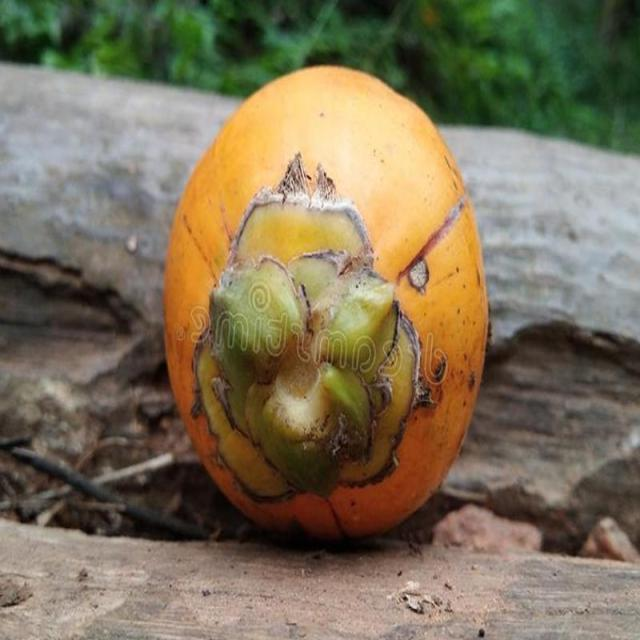good: (165, 66, 488, 537)
